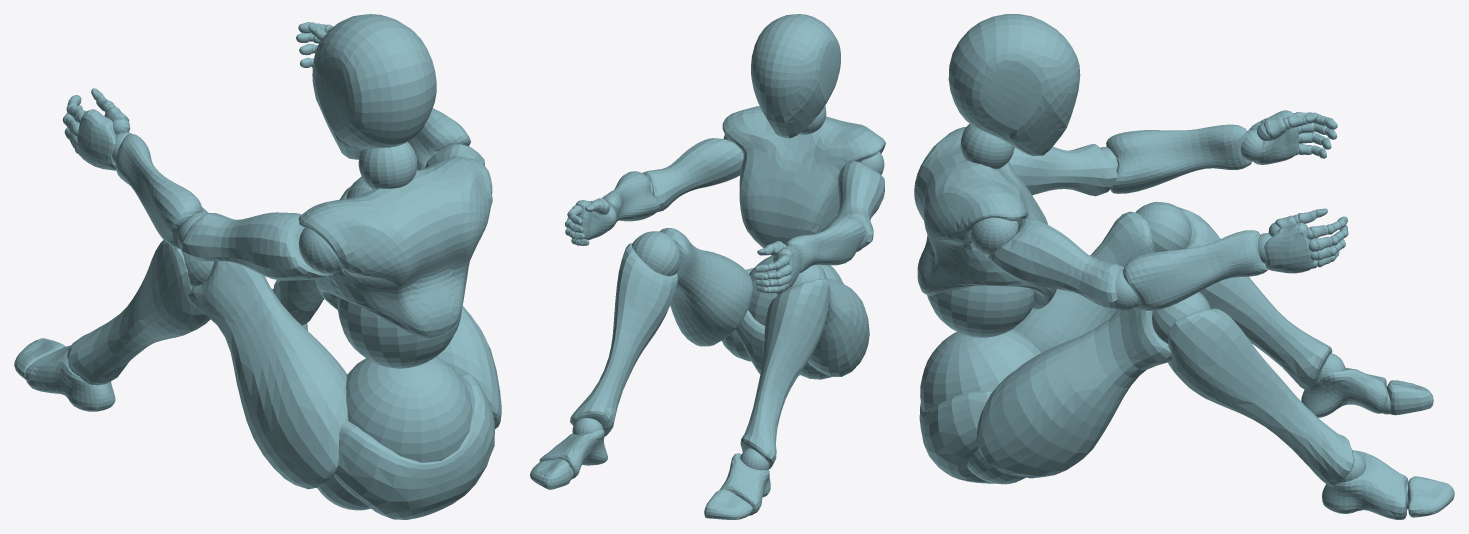
Rendered from flat-seated-glider.glb.
The picture shows the model from 3 angles, left to right: view 1: azimuth 30°, elevation 25°; view 2: azimuth 150°, elevation 25°; view 3: azimuth 270°, elevation 25°; orthographic projection. The views are drawn at different scales.
Visible parts, largest first — view 1: xier120.flat-seated-glider.mesh.000, xier120.flat-seated-glider.mesh.002; view 2: xier120.flat-seated-glider.mesh.000, xier120.flat-seated-glider.mesh.002; view 3: xier120.flat-seated-glider.mesh.000, xier120.flat-seated-glider.mesh.002.
Part boxes in pixels (x1,y1,x2,y2): xier120.flat-seated-glider.mesh.000: (14, 14, 501, 519); xier120.flat-seated-glider.mesh.002: (62, 22, 472, 510); xier120.flat-seated-glider.mesh.000: (530, 14, 885, 519); xier120.flat-seated-glider.mesh.002: (565, 105, 884, 480); xier120.flat-seated-glider.mesh.000: (914, 14, 1454, 519); xier120.flat-seated-glider.mesh.002: (920, 112, 1408, 509).
Size of what is drawn, in the model's own units: 0.6292 by 0.9366 by 1.01.
